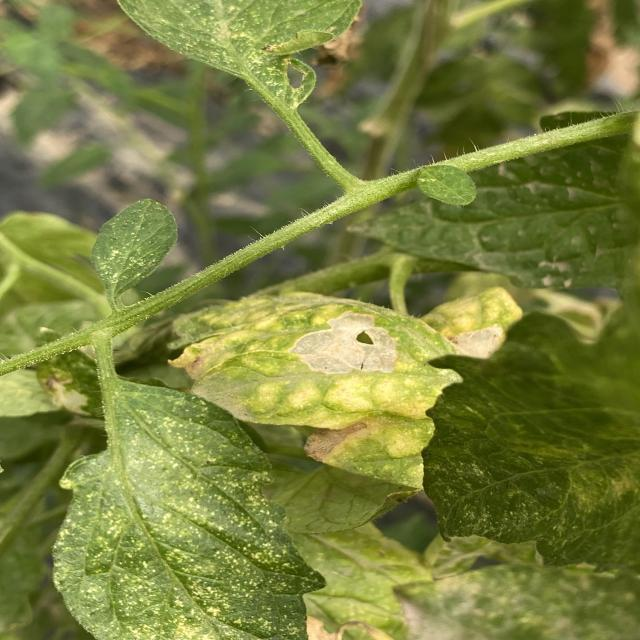Tuta absoluta: (289, 310, 398, 376)
